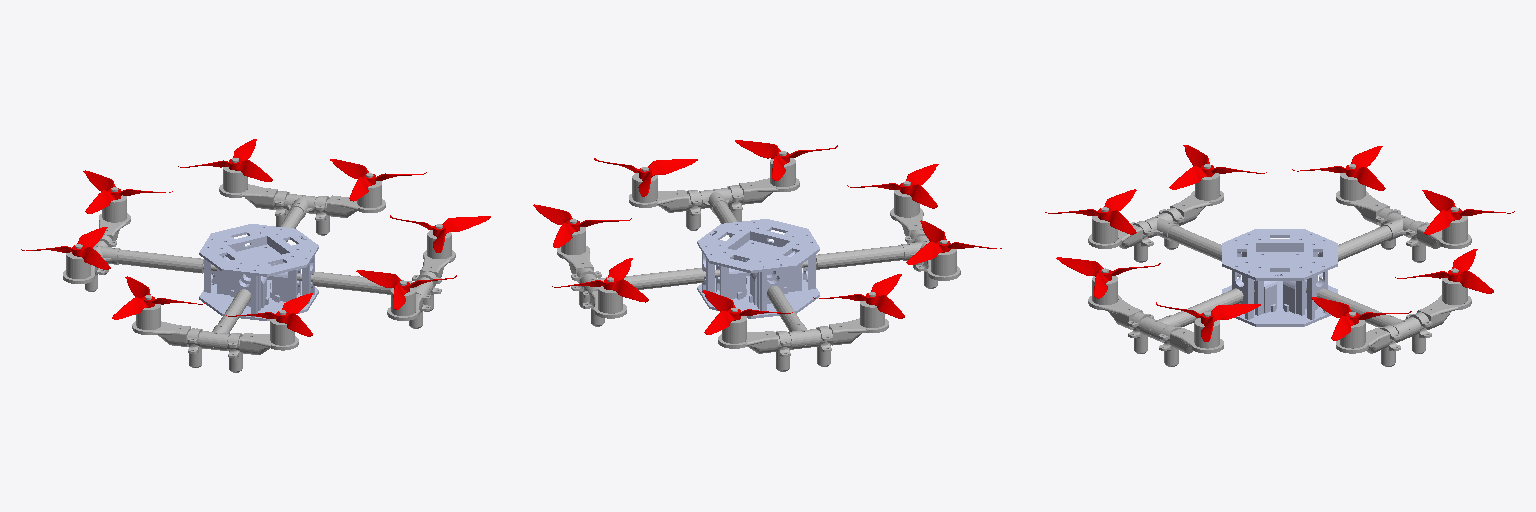
The robot description file, URDF, robot "swing_drone":
<?xml version="1.0" encoding="utf-8"?>
<robot
  name="swing_drone">
  
  <link
    name="base_link ">
    <inertial>
      <origin
        xyz="-9.81636642918719E-08 0.0306931155314605 6.86147954927806E-06"
        rpy="0 0 0" />
      <mass
        value="0.489642795099214" />
      <inertia
        ixx="0.00550730711851782"
        ixy="1.75918722866926E-09"
        ixz="8.00407972816657E-09"
        iyy="0.0106757497435687"
        iyz="4.08917538783145E-08"
        izz="0.00550715316059604" />
    </inertial>
    <visual>
      <origin
        xyz="0 0 0"
        rpy="3.14159 0 0" />
      <geometry>
        <mesh
          filename="package://swing_drone/meshes/base_link.STL" />
      </geometry>
      <material
        name="">
        <color
          rgba="0.792156862745098 0.819607843137255 0.933333333333333 1" />
      </material>
    </visual>
    <collision>
      <origin
        xyz="0 0 0"
        rpy="3.14159 0 0" />
      <geometry>
        <mesh
          filename="package://swing_drone/meshes/base_link.STL" />
      </geometry>
    </collision>
  </link>

  <link
    name="fr_link">
    <inertial>
      <origin
        xyz="5.72722553709436E-08 0.00838518201458534 -0.169743642048481"
        rpy="0 0 0" />
      <mass
        value="0.0712984135491828" />
      <inertia
        ixx="1.25109623769764E-05"
        ixy="-5.80866736119285E-11"
        ixz="3.10377556603639E-11"
        iyy="1.96234830559855E-05"
        iyz="7.47360228967648E-12"
        izz="1.31602072697672E-05" />
    </inertial>
    <visual>
      <origin
        xyz="0 0 0"
        rpy="0 0 0" />
      <geometry>
        <mesh
          filename="package://swing_drone/meshes/fr_link.STL" />
      </geometry>
      <material
        name="">
        <color
          rgba="0.752941176470588 0.752941176470588 0.752941176470588 1" />
      </material>
    </visual>
    <collision>
      <origin
        xyz="0 0 0"
        rpy="0 0 0" />
      <geometry>
        <mesh
          filename="package://swing_drone/meshes/fr_link.STL" />
      </geometry>
    </collision>
  </link>
  <joint
    name="fr_joint"
    type="continuous">
    <origin
      xyz="0 0 0.025"
      rpy="1.5708 0 2.3562" />
    <parent
      link="base_link " />
    <child
      link="fr_link" />
    <axis
      xyz="0 0 1" />
  </joint>
  <link
    name="A_prop_link">
    <inertial>
      <origin
        xyz="8.7159E-06 8.1377E-06 0.0069037"
        rpy="0 0 0" />
      <mass
        value="0.0030458" />
      <inertia
        ixx="1.0159E-06"
        ixy="7.1666E-10"
        ixz="-4.0698E-11"
        iyy="1.017E-06"
        iyz="-9.5763E-12"
        izz="1.9885E-06" />
    </inertial>
    <visual>
      <origin
        xyz="0 0 0"
        rpy="0 0 0" />
      <geometry>
        <mesh
          filename="package://swing_drone/meshes/A_prop_link.STL" />
      </geometry>
      <material
        name="">
        <color
          rgba="0.96863 0.015686 0.015686 1" />
      </material>
    </visual>
    <collision>
      <origin
        xyz="0 0 0"
        rpy="0 0 0" />
      <geometry>
        <mesh
          filename="package://swing_drone/meshes/A_prop_link.STL" />
      </geometry>
    </collision>
  </link>
  <joint
    name="A_prop_joint"
    type="continuous">
    <origin
      xyz="-0.075 0.032789 -0.18136"
      rpy="-1.5708 0.28363 0" />
    <parent
      link="fr_link" />
    <child
      link="A_prop_link" />
    <axis
      xyz="0 0 1" />
  </joint>
  <link
    name="B_prop_link">
    <inertial>
      <origin
        xyz="-2.9519E-06 6.6171E-06 0.0069036"
        rpy="0 0 0" />
      <mass
        value="0.0030461" />
      <inertia
        ixx="1.017E-06"
        ixy="5.094E-10"
        ixz="1.8144E-11"
        iyy="1.0165E-06"
        iyz="-2.7503E-11"
        izz="1.989E-06" />
    </inertial>
    <visual>
      <origin
        xyz="0 0 0"
        rpy="0 0 0" />
      <geometry>
        <mesh
          filename="package://swing_drone/meshes/B_prop_link.STL" />
      </geometry>
      <material
        name="">
        <color
          rgba="0.96863 0.015686 0.015686 1" />
      </material>
    </visual>
    <collision>
      <origin
        xyz="0 0 0"
        rpy="0 0 0" />
      <geometry>
        <mesh
          filename="package://swing_drone/meshes/B_prop_link.STL" />
      </geometry>
    </collision>
  </link>
  <joint
    name="B_prop_joint"
    type="continuous">
    <origin
      xyz="0.075 0.032789 -0.18136"
      rpy="-1.5708 -0.94937 0" />
    <parent
      link="fr_link" />
    <child
      link="B_prop_link" />
    <axis
      xyz="0 0 1" />
  </joint>
  <link
    name="br_link">
    <inertial>
      <origin
        xyz="5.6967214640888E-08 0.00838518216887453 -0.169743641529002"
        rpy="0 0 0" />
      <mass
        value="0.0712984116406711" />
      <inertia
        ixx="1.25109622044214E-05"
        ixy="-5.80830005690429E-11"
        ixz="3.10080125884296E-11"
        iyy="1.96234829027007E-05"
        iyz="7.49851524519673E-12"
        izz="1.31602072915751E-05" />
    </inertial>
    <visual>
      <origin
        xyz="0 0 0"
        rpy="0 0 0" />
      <geometry>
        <mesh
          filename="package://swing_drone/meshes/br_link.STL" />
      </geometry>
      <material
        name="">
        <color
          rgba="0.752941176470588 0.752941176470588 0.752941176470588 1" />
      </material>
    </visual>
    <collision>
      <origin
        xyz="0 0 0"
        rpy="0 0 0" />
      <geometry>
        <mesh
          filename="package://swing_drone/meshes/br_link.STL" />
      </geometry>
    </collision>
  </link>
  <joint
    name="br_joint"
    type="continuous">
    <origin
      xyz="0 0 0.025"
      rpy="1.5707963267949 0 0.785398163397444" />
    <parent
      link="base_link " />
    <child
      link="br_link" />
    <axis
      xyz="0 0 1" />
  </joint>
  <link
    name="C_prop_link">
    <inertial>
      <origin
        xyz="8.88376431135152E-06 8.24094770135453E-06 0.00690354838979317"
        rpy="0 0 0" />
      <mass
        value="0.00304576429500371" />
      <inertia
        ixx="1.01583923908105E-06"
        ixy="7.00300034386576E-10"
        ixz="-4.34623235247216E-11"
        iyy="1.01697553805106E-06"
        iyz="-1.15132452923579E-11"
        izz="1.98837107356726E-06" />
    </inertial>
    <visual>
      <origin
        xyz="0 0 0"
        rpy="0 0 0" />
      <geometry>
        <mesh
          filename="package://swing_drone/meshes/C_prop_link.STL" />
      </geometry>
      <material
        name="">
        <color
          rgba="0.968627450980392 0.0156862745098039 0.0156862745098039 1" />
      </material>
    </visual>
    <collision>
      <origin
        xyz="0 0 0"
        rpy="0 0 0" />
      <geometry>
        <mesh
          filename="package://swing_drone/meshes/C_prop_link.STL" />
      </geometry>
    </collision>
  </link>
  <joint
    name="C_prop_joint"
    type="continuous">
    <origin
      xyz="-0.075 0.032789 -0.18136"
      rpy="1.5708 1.2519 3.1416" />
    <parent
      link="br_link" />
    <child
      link="C_prop_link" />
    <axis
      xyz="0 0 1" />
  </joint>
  <link
    name="D_prop_link">
    <inertial>
      <origin
        xyz="6.88758994921157E-06 -4.88396768444366E-07 0.0069035097240563"
        rpy="0 0 0" />
      <mass
        value="0.0030460170283791" />
      <inertia
        ixx="1.01631129628996E-06"
        ixy="-5.81174683431385E-11"
        ixz="-3.79613417410503E-11"
        iyy="1.01740859082528E-06"
        iyz="3.60534564402912E-12"
        izz="1.98927726106095E-06" />
    </inertial>
    <visual>
      <origin
        xyz="0 0 0"
        rpy="0 0 0" />
      <geometry>
        <mesh
          filename="package://swing_drone/meshes/D_prop_link.STL" />
      </geometry>
      <material
        name="">
        <color
          rgba="0.968627450980392 0.0156862745098039 0.0156862745098039 1" />
      </material>
    </visual>
    <collision>
      <origin
        xyz="0 0 0"
        rpy="0 0 0" />
      <geometry>
        <mesh
          filename="package://swing_drone/meshes/D_prop_link.STL" />
      </geometry>
    </collision>
  </link>
  <joint
    name="D_prop_joint"
    type="continuous">
    <origin
      xyz="0.075 0.032789 -0.18136"
      rpy="1.5708 0.2674 -3.1416" />
    <parent
      link="br_link" />
    <child
      link="D_prop_link" />
    <axis
      xyz="0 0 1" />
  </joint>
  <link
    name="bl_link">
    <inertial>
      <origin
        xyz="5.57576253618631E-08 0.00838518201458557 -0.169743641788305"
        rpy="0 0 0" />
      <mass
        value="0.0712984135491827" />
      <inertia
        ixx="1.25109623769764E-05"
        ixy="-5.80805135568167E-11"
        ixz="3.10377556599404E-11"
        iyy="1.96234830559855E-05"
        iyz="7.50888677807041E-12"
        izz="1.31602072697672E-05" />
    </inertial>
    <visual>
      <origin
        xyz="0 0 0"
        rpy="0 0 0" />
      <geometry>
        <mesh
          filename="package://swing_drone/meshes/bl_link.STL" />
      </geometry>
      <material
        name="">
        <color
          rgba="0.752941176470588 0.752941176470588 0.752941176470588 1" />
      </material>
    </visual>
    <collision>
      <origin
        xyz="0 0 0"
        rpy="0 0 0" />
      <geometry>
        <mesh
          filename="package://swing_drone/meshes/bl_link.STL" />
      </geometry>
    </collision>
  </link>
  <joint
    name="bl_joint"
    type="continuous">
    <origin
      xyz="0 0 0.025"
      rpy="1.5707963267949 0 -0.785398163397454" />
    <parent
      link="base_link " />
    <child
      link="bl_link" />
    <axis
      xyz="0 0 1" />
  </joint>
  <link
    name="E_prop_link">
    <inertial>
      <origin
        xyz="2.7313275353727E-06 3.86682184189135E-07 0.00690385853098646"
        rpy="0 0 0" />
      <mass
        value="0.00304648811584682" />
      <inertia
        ixx="1.01692766677989E-06"
        ixy="-8.25590073897304E-12"
        ixz="-2.9913999900015E-11"
        iyy="1.01745813006253E-06"
        iyz="1.47433389309506E-12"
        izz="1.98993970966869E-06" />
    </inertial>
    <visual>
      <origin
        xyz="0 0 0"
        rpy="0 0 0" />
      <geometry>
        <mesh
          filename="package://swing_drone/meshes/E_prop_link.STL" />
      </geometry>
      <material
        name="">
        <color
          rgba="0.968627450980392 0.0156862745098039 0.0156862745098039 1" />
      </material>
    </visual>
    <collision>
      <origin
        xyz="0 0 0"
        rpy="0 0 0" />
      <geometry>
        <mesh
          filename="package://swing_drone/meshes/E_prop_link.STL" />
      </geometry>
    </collision>
  </link>
  <joint
    name="E_prop_joint"
    type="continuous">
    <origin
      xyz="-0.075 0.032789 -0.18136"
      rpy="1.5708 -0.4532 -3.1416" />
    <parent
      link="bl_link" />
    <child
      link="E_prop_link" />
    <axis
      xyz="0 0 1" />
  </joint>
  <link
    name="F_prop_link">
    <inertial>
      <origin
        xyz="-2.66120848305129E-06 6.72137493892833E-06 0.00690341554333757"
        rpy="0 0 0" />
      <mass
        value="0.00304581013536126" />
      <inertia
        ixx="1.01706667134054E-06"
        ixy="5.04989341627317E-10"
        ixz="1.90640171727212E-11"
        iyy="1.01648666014435E-06"
        iyz="-2.22329153080792E-11"
        izz="1.9891136648677E-06" />
    </inertial>
    <visual>
      <origin
        xyz="0 0 0"
        rpy="0 0 0" />
      <geometry>
        <mesh
          filename="package://swing_drone/meshes/F_prop_link.STL" />
      </geometry>
      <material
        name="">
        <color
          rgba="0.968627450980392 0.0156862745098039 0.0156862745098039 1" />
      </material>
    </visual>
    <collision>
      <origin
        xyz="0 0 0"
        rpy="0 0 0" />
      <geometry>
        <mesh
          filename="package://swing_drone/meshes/F_prop_link.STL" />
      </geometry>
    </collision>
  </link>
  <joint
    name="F_prop_joint"
    type="continuous">
    <origin
      xyz="0.075 0.032789 -0.18136"
      rpy="-1.5708 0.44248 0" />
    <parent
      link="bl_link" />
    <child
      link="F_prop_link" />
    <axis
      xyz="0 0 1" />
  </joint>
  <link
    name="fl_link">
    <inertial>
      <origin
        xyz="5.77245295304477E-08 0.00838518205590654 -0.169743641875677"
        rpy="0 0 0" />
      <mass
        value="0.0712984129705644" />
      <inertia
        ixx="1.25109623234441E-05"
        ixy="-5.80860805952669E-11"
        ixz="3.10312650412831E-11"
        iyy="1.96234829906507E-05"
        iyz="7.48087300370571E-12"
        izz="1.31602072594632E-05" />
    </inertial>
    <visual>
      <origin
        xyz="0 0 0"
        rpy="0 0 0" />
      <geometry>
        <mesh
          filename="package://swing_drone/meshes/fl_link.STL" />
      </geometry>
      <material
        name="">
        <color
          rgba="0.752941176470588 0.752941176470588 0.752941176470588 1" />
      </material>
    </visual>
    <collision>
      <origin
        xyz="0 0 0"
        rpy="0 0 0" />
      <geometry>
        <mesh
          filename="package://swing_drone/meshes/fl_link.STL" />
      </geometry>
    </collision>
  </link>
  <joint
    name="fl_joint"
    type="continuous">
    <origin
      xyz="0 0 0.025"
      rpy="1.5707963267949 0 -2.35619449019234" />
    <parent
      link="base_link " />
    <child
      link="fl_link" />
    <axis
      xyz="0 0 1" />
  </joint>
  <link
    name="G_prop_link">
    <inertial>
      <origin
        xyz="3.62789022101406E-06 7.93861775136295E-06 0.00690342839194055"
        rpy="0 0 0" />
      <mass
        value="0.00304542470661797" />
      <inertia
        ixx="1.01591118865216E-06"
        ixy="7.11420493756258E-10"
        ixz="-2.70428480861302E-11"
        iyy="1.01623051835766E-06"
        iyz="-1.42050794040357E-11"
        izz="1.98769911974202E-06" />
    </inertial>
    <visual>
      <origin
        xyz="0 0 0"
        rpy="0 0 0" />
      <geometry>
        <mesh
          filename="package://swing_drone/meshes/G_prop_link.STL" />
      </geometry>
      <material
        name="">
        <color
          rgba="0.968627450980392 0.0156862745098039 0.0156862745098039 1" />
      </material>
    </visual>
    <collision>
      <origin
        xyz="0 0 0"
        rpy="0 0 0" />
      <geometry>
        <mesh
          filename="package://swing_drone/meshes/G_prop_link.STL" />
      </geometry>
    </collision>
  </link>
  <joint
    name="G_prop_joint"
    type="continuous">
    <origin
      xyz="-0.075 0.032789 -0.18136"
      rpy="-1.5708 0.26204 0" />
    <parent
      link="fl_link" />
    <child
      link="G_prop_link" />
    <axis
      xyz="0 0 1" />
  </joint>
  <link
    name="H_prop_link">
    <inertial>
      <origin
        xyz="-2.20600356380662E-06 4.87187253123134E-06 0.00690356262000323"
        rpy="0 0 0" />
      <mass
        value="0.00304597813849953" />
      <inertia
        ixx="1.01676909541948E-06"
        ixy="3.896174971715E-10"
        ixz="1.6241830169863E-11"
        iyy="1.01642948192595E-06"
        iyz="-2.50490797824747E-11"
        izz="1.98875407345364E-06" />
    </inertial>
    <visual>
      <origin
        xyz="0 0 0"
        rpy="0 0 0" />
      <geometry>
        <mesh
          filename="package://swing_drone/meshes/H_prop_link.STL" />
      </geometry>
      <material
        name="">
        <color
          rgba="0.968627450980392 0.0156862745098039 0.0156862745098039 1" />
      </material>
    </visual>
    <collision>
      <origin
        xyz="0 0 0"
        rpy="0 0 0" />
      <geometry>
        <mesh
          filename="package://swing_drone/meshes/H_prop_link.STL" />
      </geometry>
    </collision>
  </link>
  <joint
    name="H_prop_joint"
    type="continuous">
    <origin
      xyz="0.075 0.032789 -0.18136"
      rpy="1.5708 0.93504 -3.1416" />
    <parent
      link="fl_link" />
    <child
      link="H_prop_link" />
    <axis
      xyz="0 0 1" />
  </joint>
</robot>

--- What the picture shows (computed from the rendered views, not written in the file) ---
Views: 3 orthographic renders of the robot side by side, from view 1: azimuth 30°, elevation 25°; view 2: azimuth 150°, elevation 25°; view 3: azimuth 270°, elevation 25°.
Robot: swing_drone — 13 links, 12 joints (12 continuous); root link base_link; default pose: every joint at zero.
Visible links, largest first — view 1: base_link, fr_link, bl_link, br_link, fl_link, E_prop_link, A_prop_link, B_prop_link, C_prop_link, D_prop_link, F_prop_link, H_prop_link (+1 smaller); view 2: base_link, br_link, fl_link, fr_link, bl_link, B_prop_link, E_prop_link, A_prop_link, C_prop_link, D_prop_link, F_prop_link, H_prop_link (+1 smaller); view 3: base_link, fl_link, bl_link, fr_link, br_link, E_prop_link, B_prop_link, C_prop_link, A_prop_link, D_prop_link, F_prop_link, H_prop_link (+1 smaller).
Boxes of the visible links, x1,y1,x2,y2 form: base_link: (199,224,318,320); fr_link: (132,289,298,372); bl_link: (219,158,385,241); br_link: (63,187,216,291); fl_link: (297,224,455,328); E_prop_link: (178,139,272,181); A_prop_link: (226,293,312,336); B_prop_link: (112,276,204,319); C_prop_link: (21,227,110,269); D_prop_link: (83,170,172,213); F_prop_link: (330,159,426,201); H_prop_link: (356,270,456,309); base_link: (697,219,819,318); br_link: (718,286,888,371); fl_link: (629,151,799,237); fr_link: (802,181,960,288); bl_link: (557,219,719,326); B_prop_link: (906,220,1001,264); E_prop_link: (552,258,648,302); A_prop_link: (847,164,938,208); C_prop_link: (813,274,904,318); D_prop_link: (702,290,792,334); F_prop_link: (533,204,631,247); H_prop_link: (735,140,837,180); base_link: (1222,229,1337,326); fl_link: (1088,268,1254,366); bl_link: (1306,268,1471,366); fr_link: (1088,164,1223,262); br_link: (1336,164,1471,262); E_prop_link: (1395,249,1493,293); B_prop_link: (1169,145,1266,189); C_prop_link: (1292,146,1385,190); A_prop_link: (1045,189,1136,234); D_prop_link: (1422,190,1514,234); F_prop_link: (1311,297,1411,340); H_prop_link: (1056,257,1160,298).
Size in the robot's own frame: 0.4838 by 0.4885 by 0.0812 metres.
Meshes: 13 distinct files referenced, 13 mesh visuals loaded (13 binary STL).